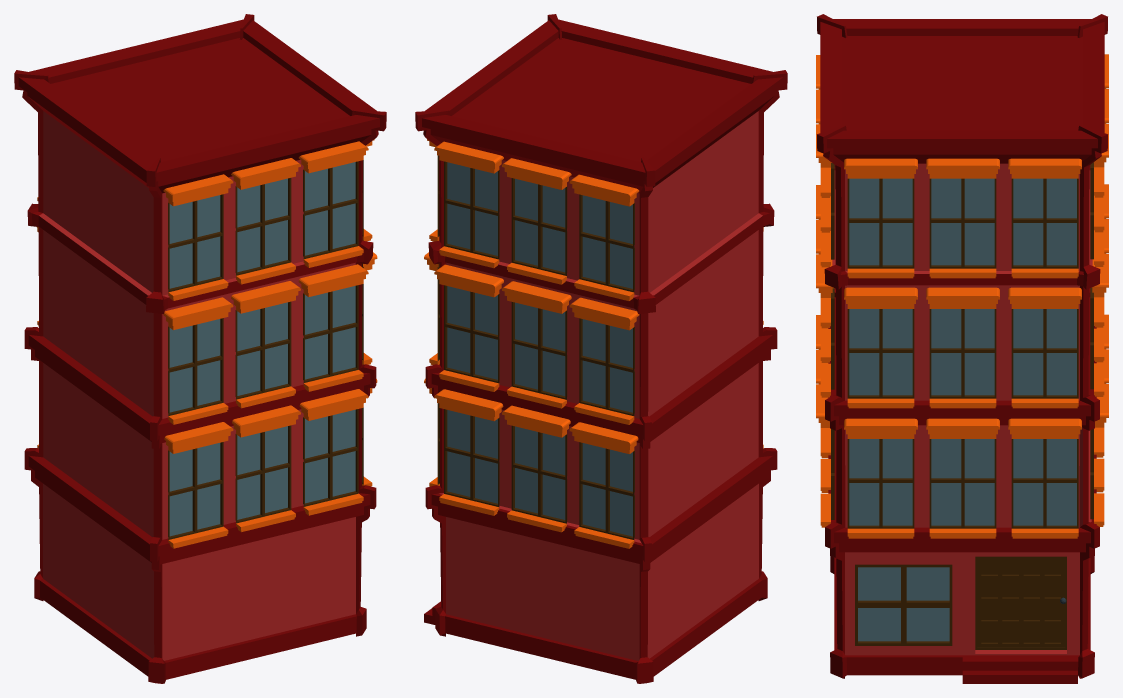
File: 4-Red.fbx
3 renders of one model, left to right at view 1: azimuth 30°, elevation 25°; view 2: azimuth 150°, elevation 25°; view 3: azimuth 270°, elevation 25°, orthographic. The views are drawn at different scales.
Parts seen in each view (by area): view 1: Cube.002; view 2: Cube.002; view 3: Cube.002.
Part boxes in pixels (x1,y1,x2,y2): Cube.002: (14, 14, 386, 683); Cube.002: (415, 14, 787, 683); Cube.002: (816, 14, 1108, 683).
Size of the model in its own units: 1427 by 1435 by 2966.
